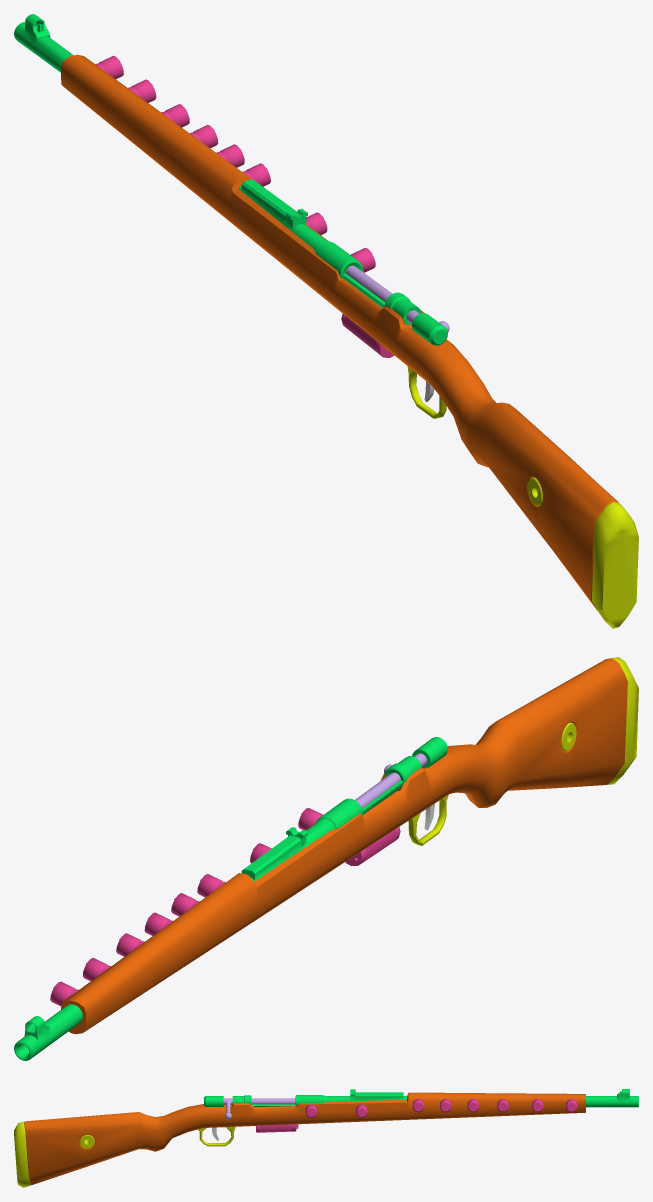
Rendered from Kar98 smooth.fbx.
3 views of the same model, one above another, from view 1: azimuth 30°, elevation 25°; view 2: azimuth 150°, elevation 25°; view 3: azimuth 270°, elevation 25° (orthographic). The views are drawn at different scales.
Visible parts, largest first — view 1: Rifle, BlakBarrelPart2, kundak; view 2: Rifle, BlakBarrelPart2, kundak, Barrel, TriggerAround, BlakBarrelPart2.001; view 3: Rifle, BlakBarrelPart2, kundak, Barrel, TriggerAround, BlakBarrelPart2.001, Flaps.002, MetalPart.
Part boxes in pixels (box(x1,y1,x2,y2)): Rifle: box(61, 54, 618, 610); BlakBarrelPart2: box(14, 14, 421, 324); kundak: box(592, 502, 638, 628); Rifle: box(61, 658, 627, 1034); BlakBarrelPart2: box(14, 756, 421, 1060); kundak: box(607, 657, 638, 784); Barrel: box(355, 753, 426, 808); TriggerAround: box(408, 794, 448, 845); BlakBarrelPart2.001: box(412, 737, 447, 768); Rifle: box(24, 1092, 585, 1185); BlakBarrelPart2: box(232, 1089, 638, 1107); kundak: box(14, 1121, 30, 1187); Barrel: box(223, 1098, 295, 1119); TriggerAround: box(198, 1126, 235, 1146); BlakBarrelPart2.001: box(204, 1096, 223, 1106); Flaps.002: box(260, 1124, 292, 1131); MetalPart: box(79, 1135, 94, 1148).
Bounding box in the file's own units: 62.42 × 209 × 1203.
